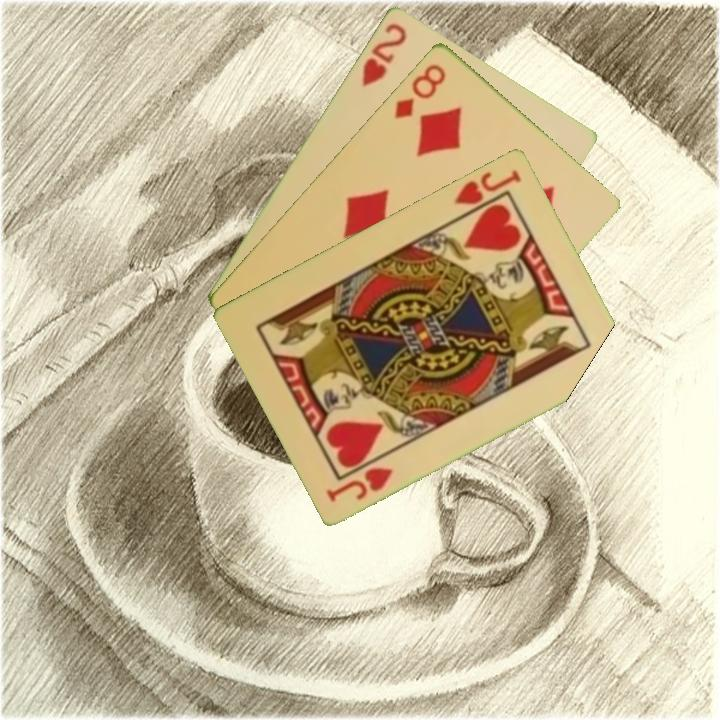2h: (358, 19, 410, 90)
8d: (390, 60, 449, 122)
Jh: (450, 165, 524, 208), (323, 463, 396, 505)
